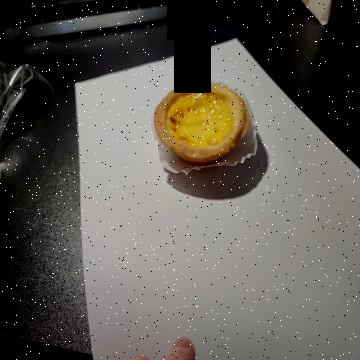EggTart: (155, 80, 249, 168)
